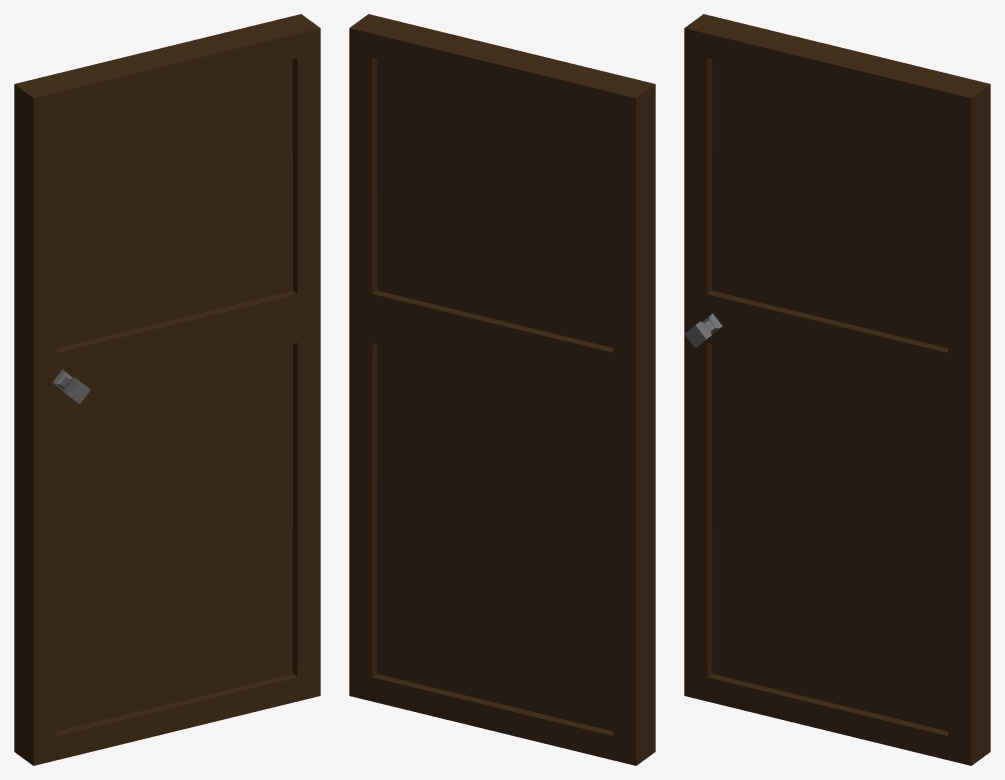
The model's file is SM_Door.fbx.
The picture shows the model from 3 angles, left to right: view 1: azimuth 30°, elevation 25°; view 2: azimuth 150°, elevation 25°; view 3: azimuth 330°, elevation 25°; orthographic projection.
Parts seen in each view (by area): view 1: SM_Door; view 2: SM_Door; view 3: SM_Door.
Boxes of the visible parts, left/top/right/bottom form: SM_Door: left=14, top=14, right=320, bottom=765; SM_Door: left=349, top=14, right=655, bottom=765; SM_Door: left=684, top=14, right=990, bottom=765.
Size of the model in its own units: 0.8572 by 1.9 by 0.1913.
